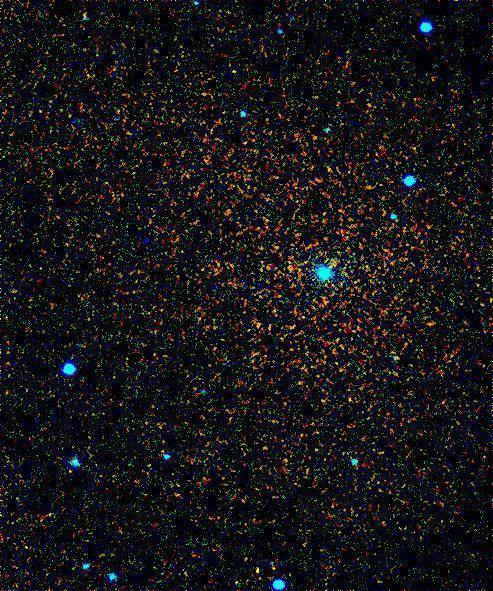star: (316, 247, 346, 277)
